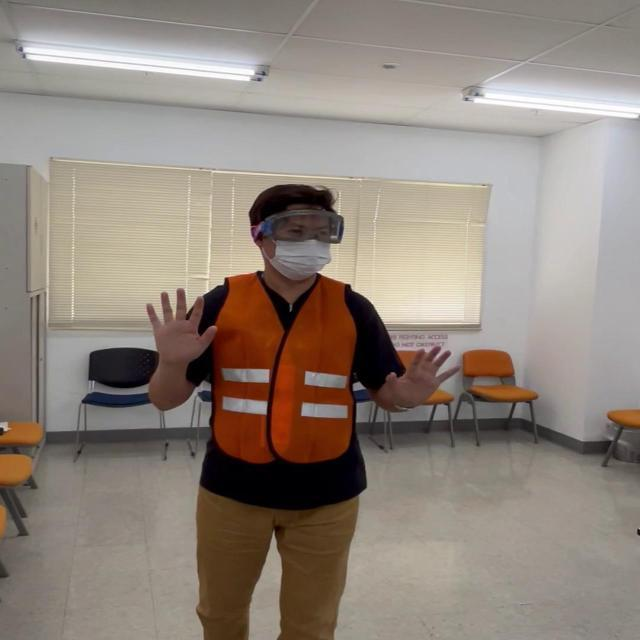bare_hand: (142, 284, 219, 362), (383, 340, 459, 411)
